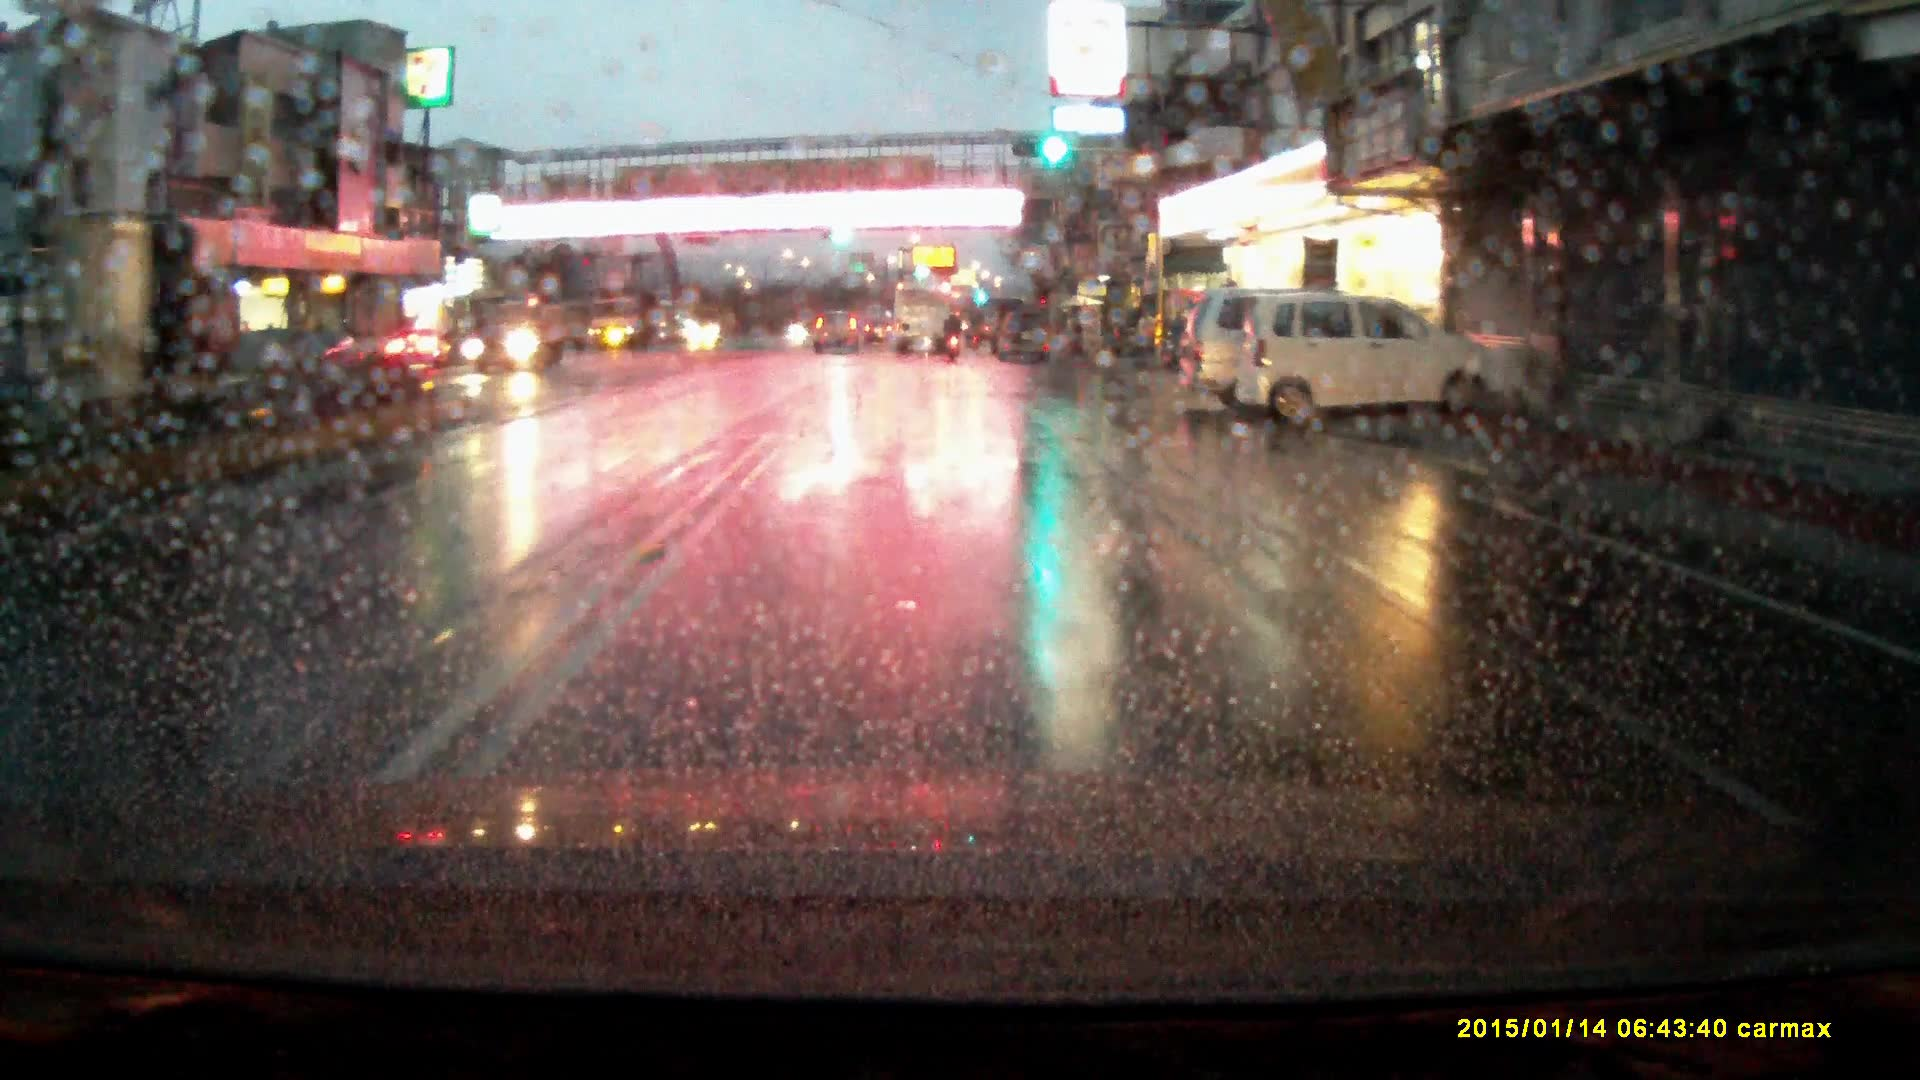rider: (943, 311, 964, 364)
vehicle: (1239, 293, 1526, 431), (1180, 286, 1347, 419), (462, 296, 565, 373), (266, 322, 371, 376), (896, 278, 951, 349), (588, 294, 656, 346), (994, 306, 1052, 362), (385, 325, 457, 369), (685, 298, 744, 343), (1107, 306, 1157, 358), (815, 304, 864, 351)
